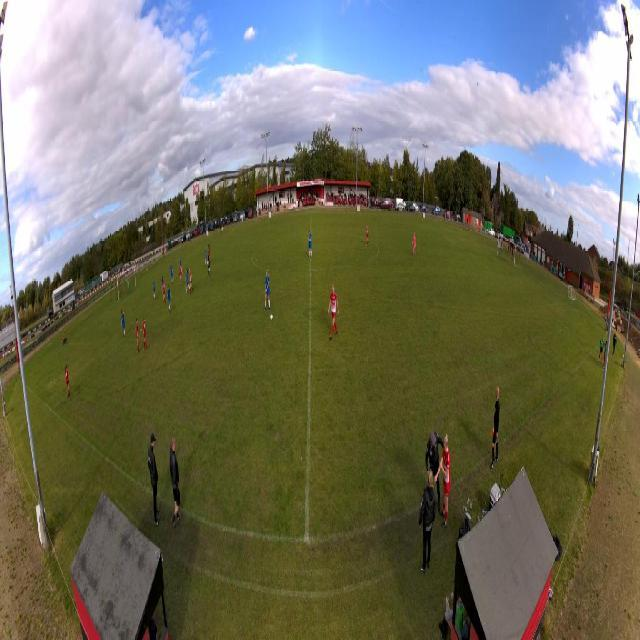ball: (270, 313, 274, 321)
player: (328, 283, 340, 341), (264, 268, 271, 313), (140, 316, 148, 353), (65, 363, 71, 398), (166, 284, 172, 315), (135, 317, 140, 354), (121, 309, 127, 339), (185, 267, 191, 294), (308, 229, 313, 260), (189, 266, 194, 295), (412, 232, 417, 257), (365, 223, 370, 248), (207, 251, 211, 278), (178, 260, 182, 287), (162, 279, 166, 304), (170, 261, 174, 285), (152, 277, 156, 301), (204, 245, 208, 266), (179, 255, 183, 275), (127, 277, 131, 296), (208, 243, 211, 264), (161, 275, 165, 289)
